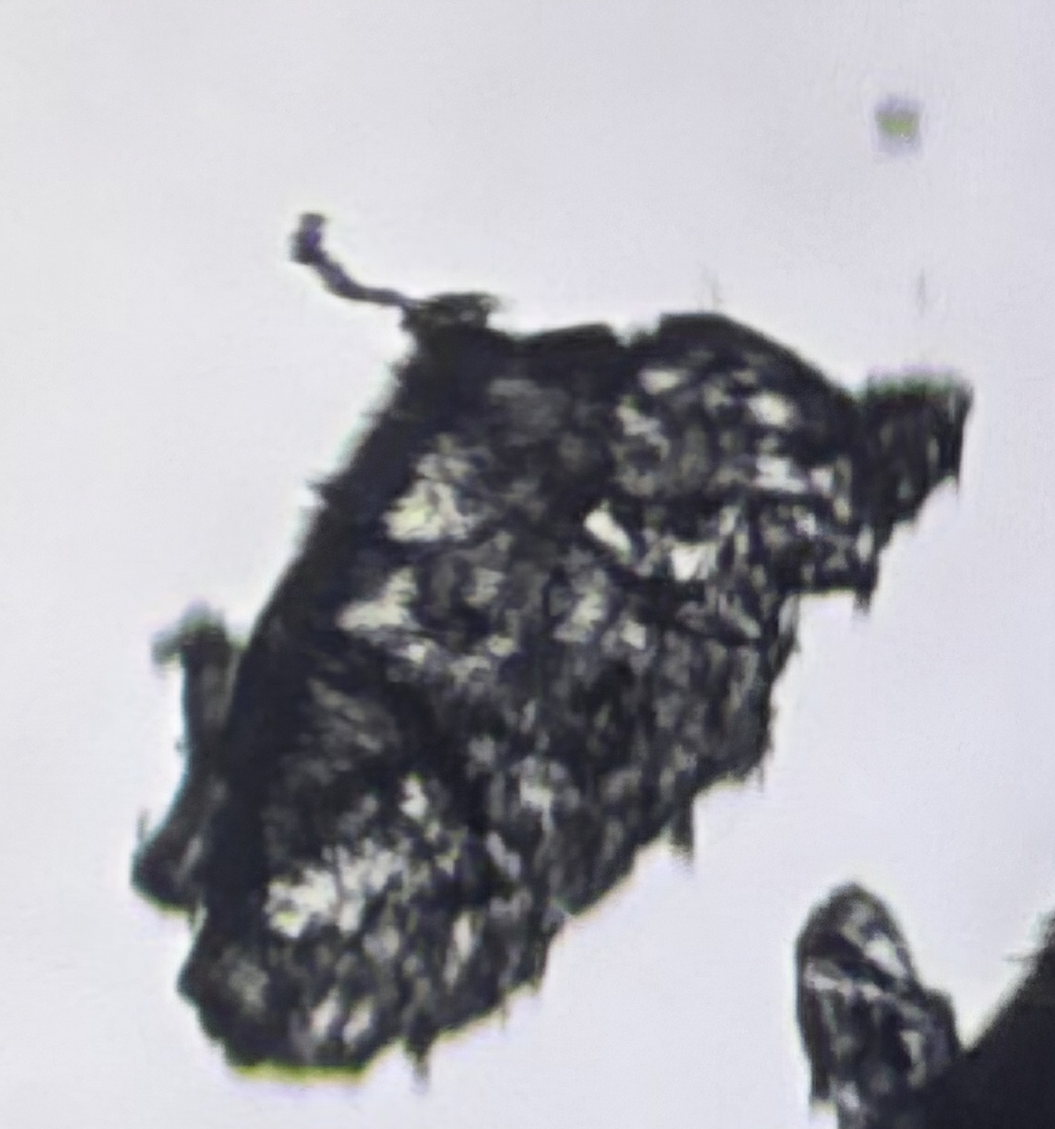microplastic: (133, 213, 976, 1074), (792, 882, 967, 1129)
